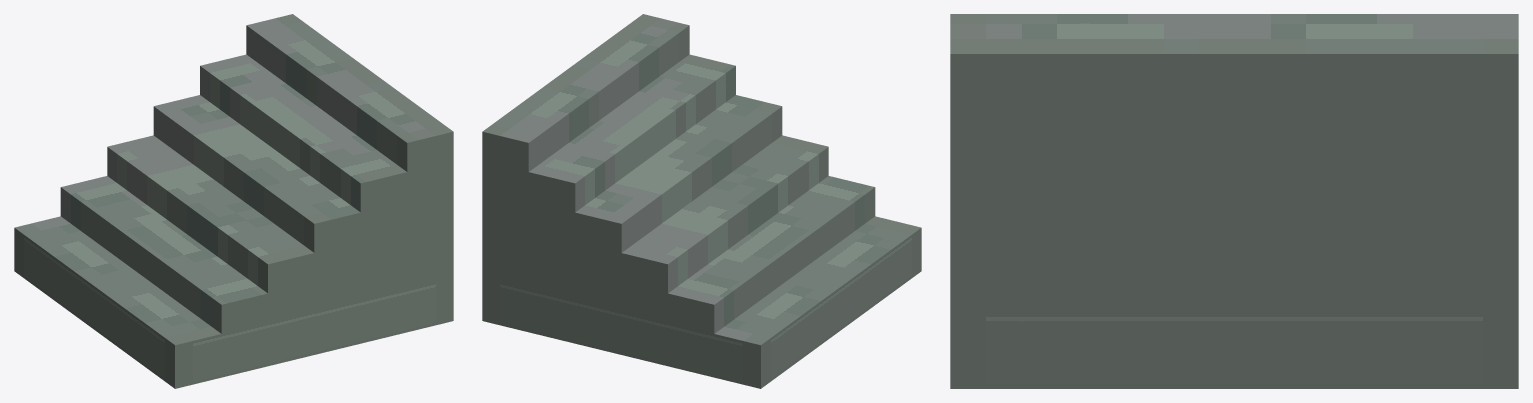
File: Staircase1.fbx
3 renders of one model, left to right at view 1: azimuth 30°, elevation 25°; view 2: azimuth 150°, elevation 25°; view 3: azimuth 270°, elevation 25°, orthographic. The views are drawn at different scales.
Parts seen in each view (by area): view 1: Cube; view 2: Cube; view 3: Cube.
Part boxes in pixels (x1,y1,x2,y2): Cube: [14, 14, 453, 388]; Cube: [482, 14, 921, 388]; Cube: [950, 14, 1518, 388].
Size of the model in its own units: 400 by 260 by 400.
